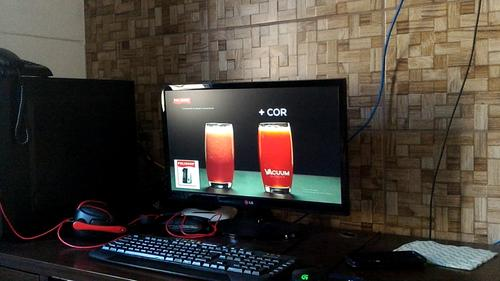Polishop #1: (174, 158, 200, 189)
